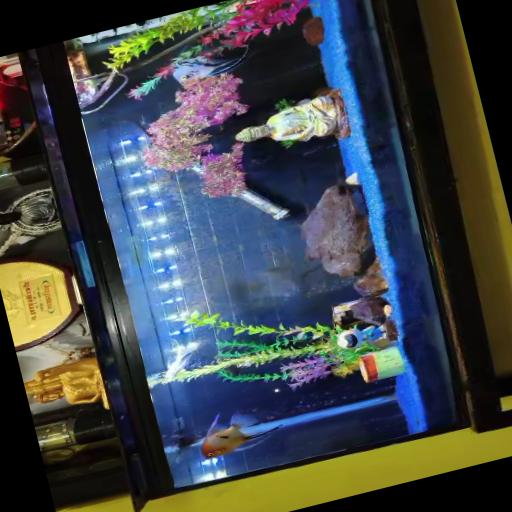Fish: (202, 412, 281, 458), (173, 46, 248, 82), (166, 338, 194, 380)
